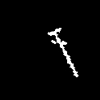double_crochet: (48, 28, 77, 76)
